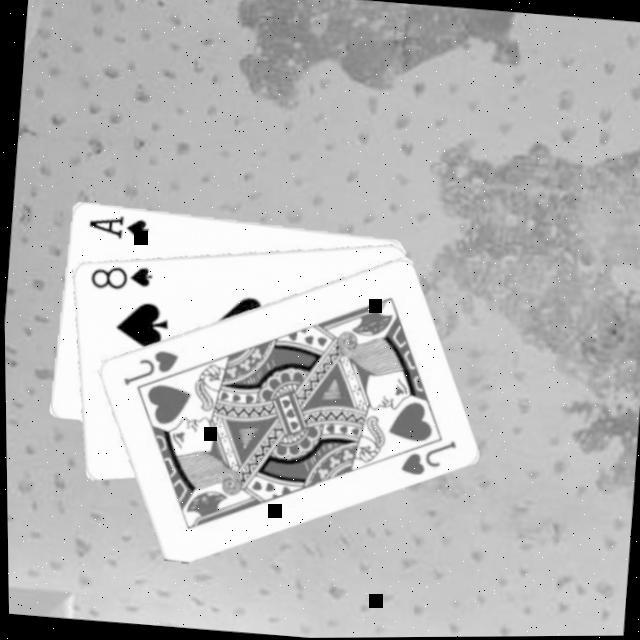8S: (85, 260, 156, 298)
AS: (82, 210, 150, 246)
JH: (117, 345, 182, 394), (394, 435, 459, 484)
